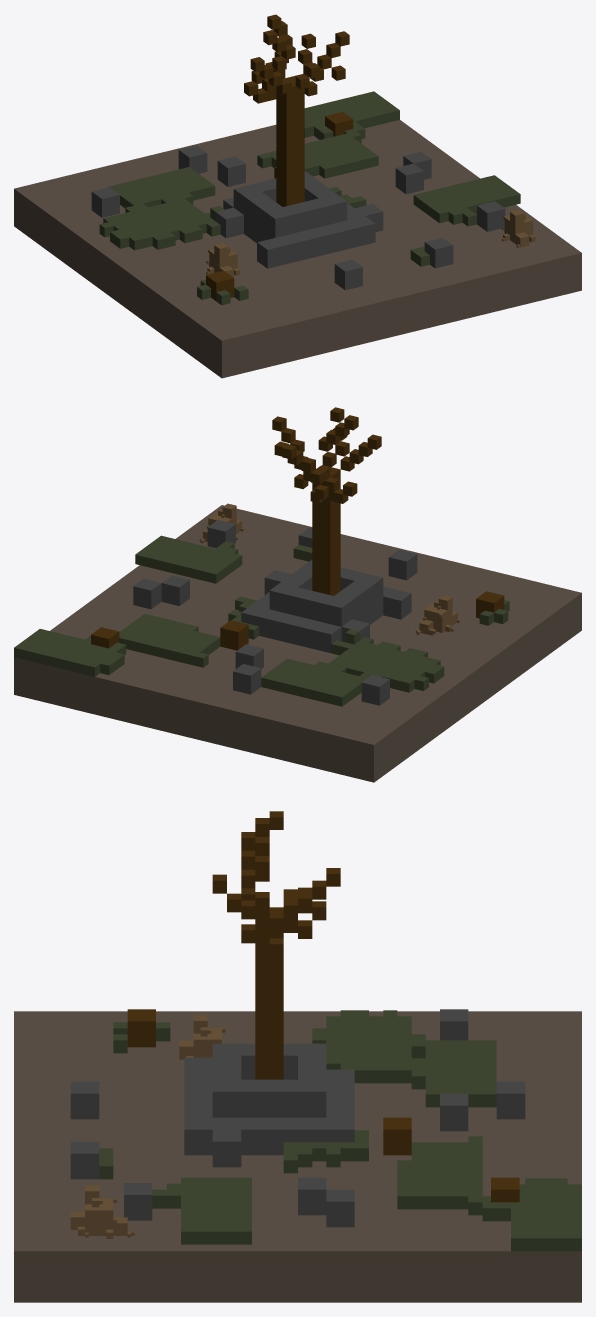
The model's file is park-0.glb.
The picture shows the model from 3 angles, top to bottom: view 1: azimuth 30°, elevation 25°; view 2: azimuth 150°, elevation 25°; view 3: azimuth 270°, elevation 25°; orthographic projection. The views are drawn at different scales.
Parts seen in each view (by area): view 1: Tree::Old; view 2: Tree::Old; view 3: Tree::Old.
Boxes of the visible parts, bbox=[...] form: Tree::Old: bbox=[14, 14, 581, 378]; Tree::Old: bbox=[14, 407, 581, 782]; Tree::Old: bbox=[14, 811, 581, 1302].
Bounding box in the file's own units: 1 × 0.675 × 1.
